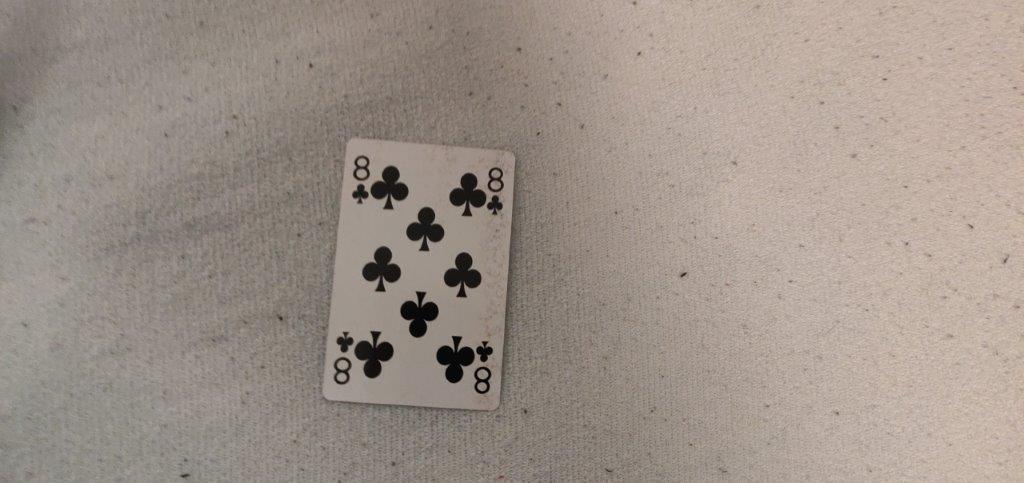8C: (347, 152, 378, 211), (484, 162, 507, 221)
